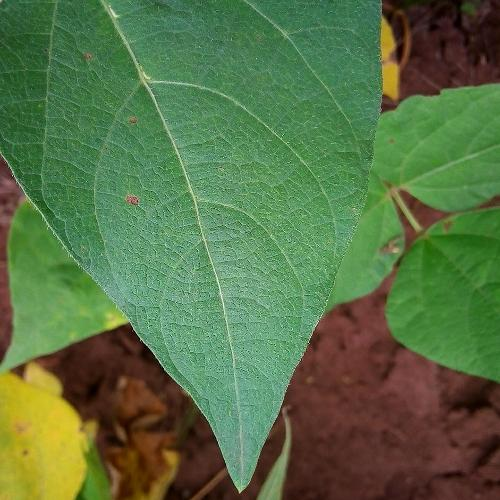sehat: (9, 0, 352, 341)
